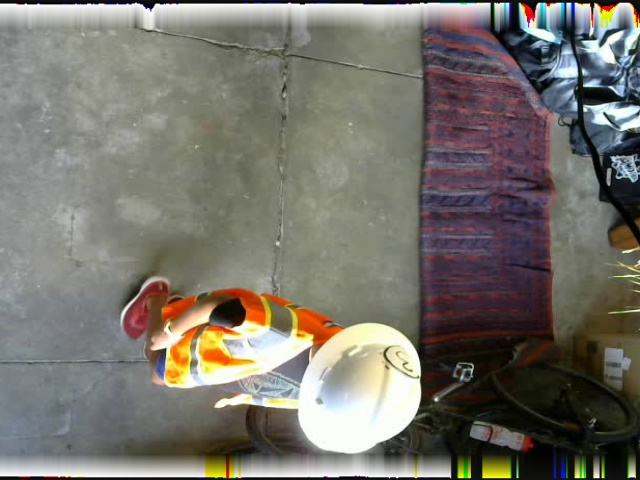three: (384, 343, 421, 378)
